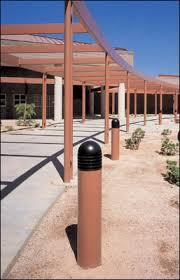Animal: (60, 143, 104, 253), (104, 115, 122, 150)
